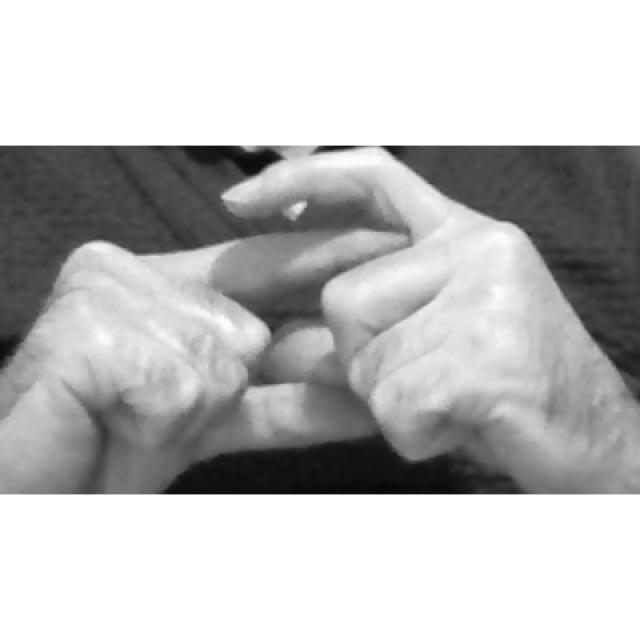G-: (4, 144, 621, 495)
